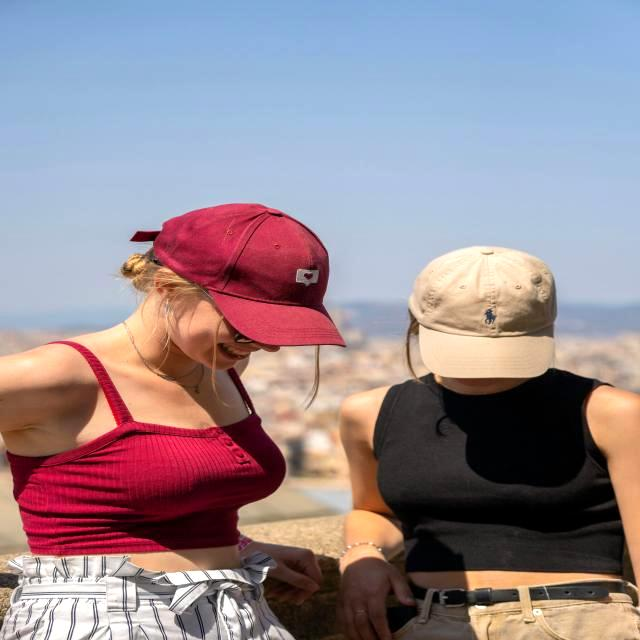no_hard_hat: (132, 204, 345, 346), (409, 246, 557, 378)
person: (1, 204, 357, 640), (331, 249, 640, 640)
